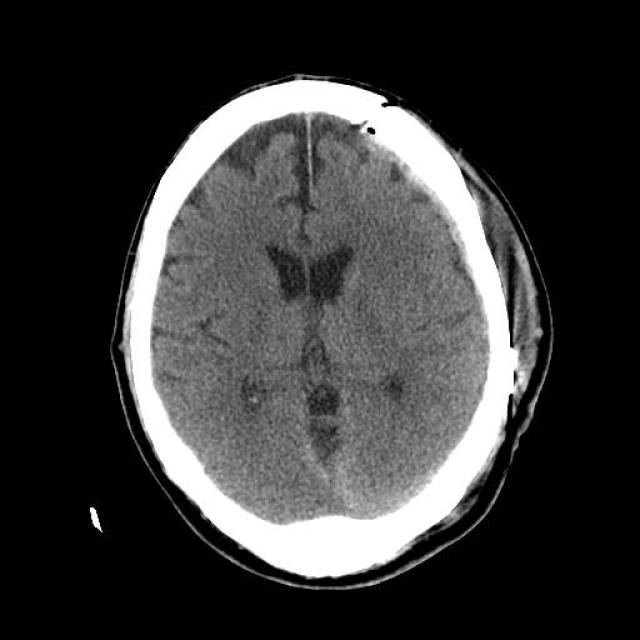Subdural: (358, 121, 482, 290)
